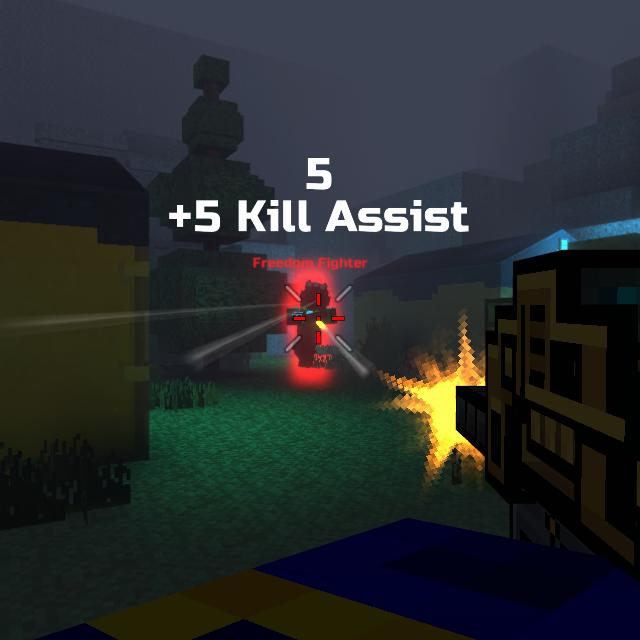Enemy: (285, 283, 337, 370)
